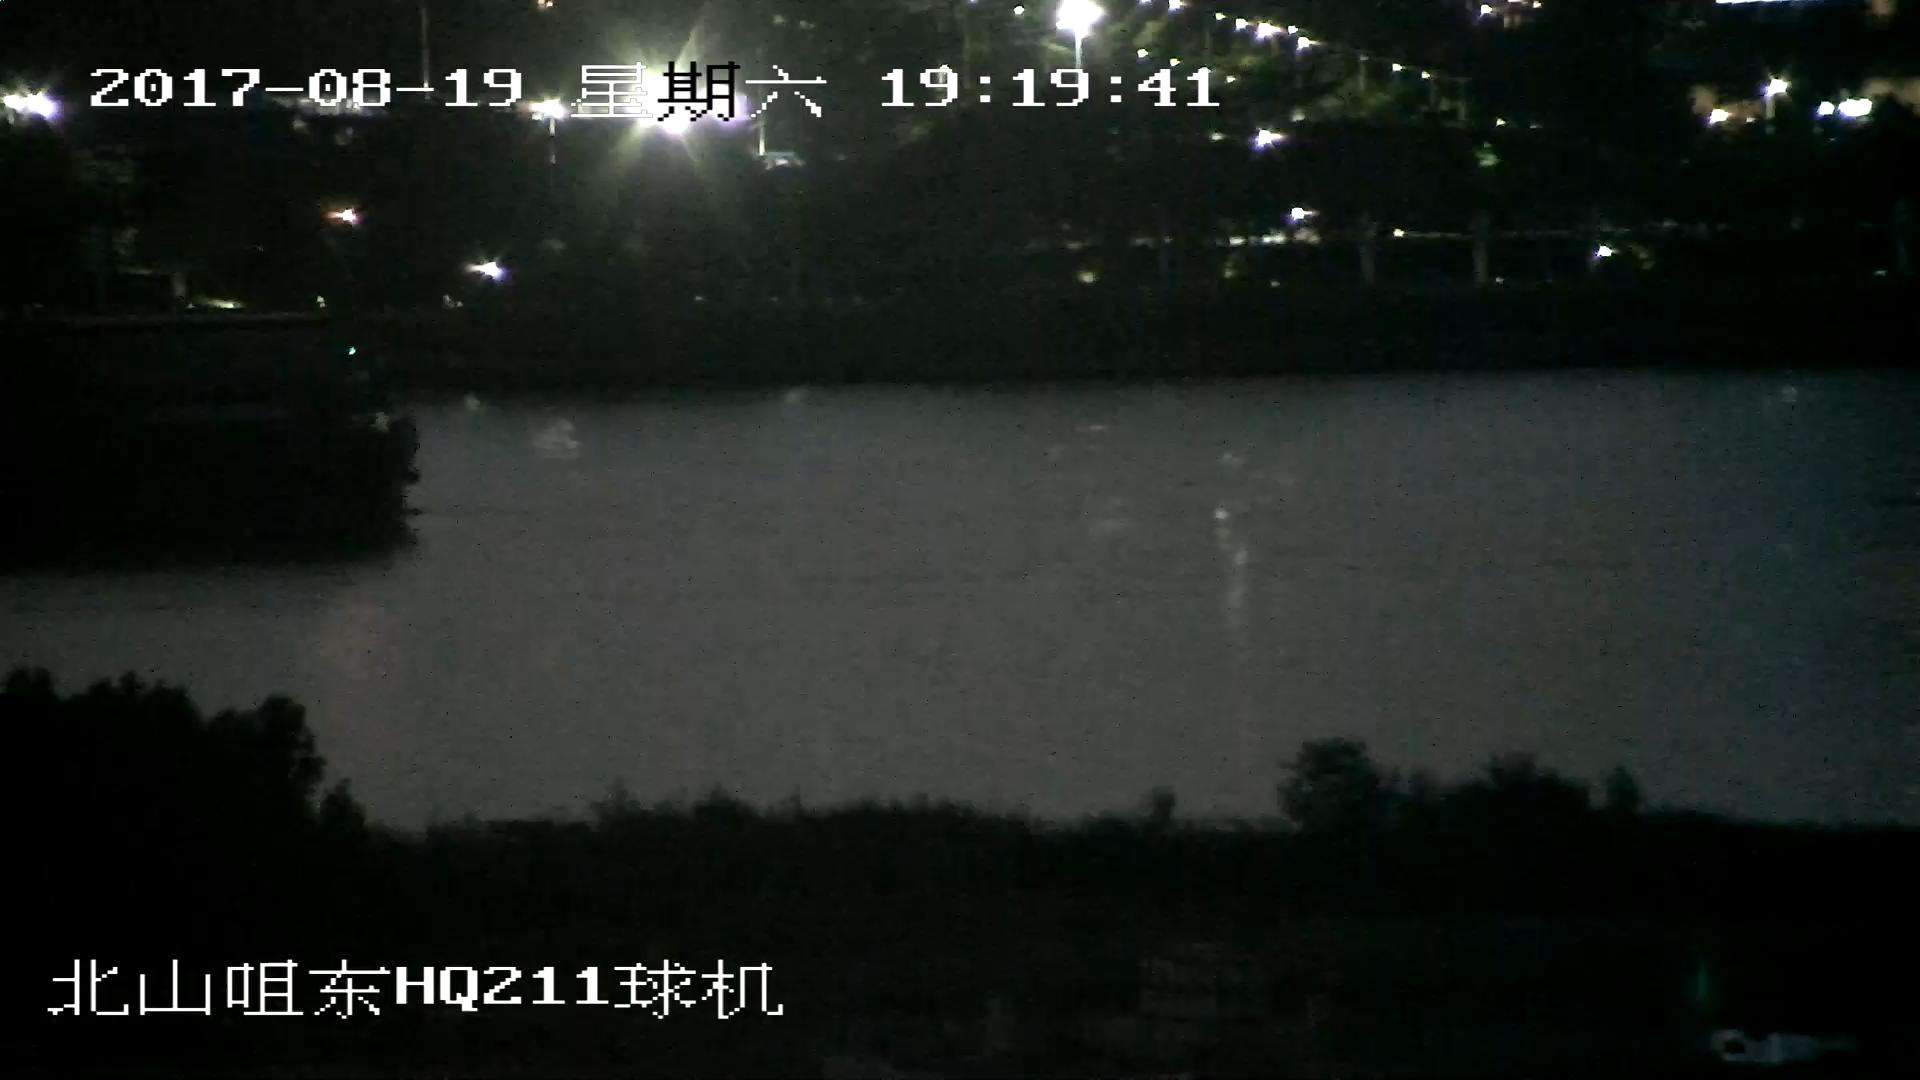container ship: (1, 337, 422, 567)
